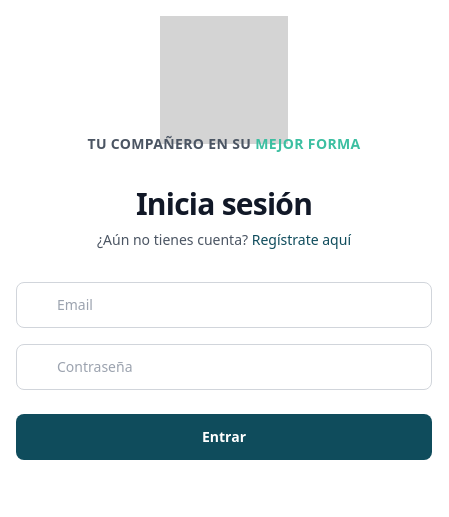
LoginPage › should show error if form is submitted empty
The image size is (449, 517).
What coordinates should you click on to do the following:
click the button "Entrar"
I would click on:
 (224, 437)
Its box is [16, 414, 432, 460].
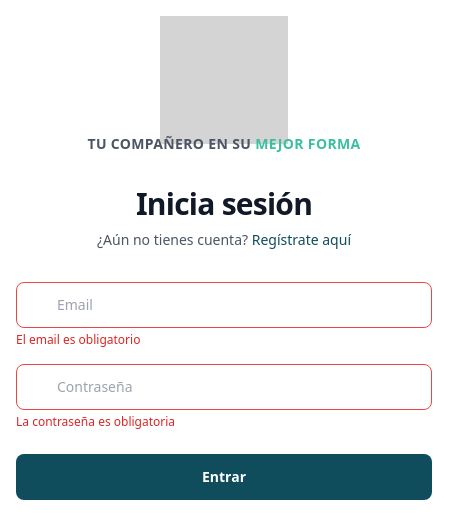
expect the text "El email es obligatorio" is shown: met, box [16, 331, 140, 348]
